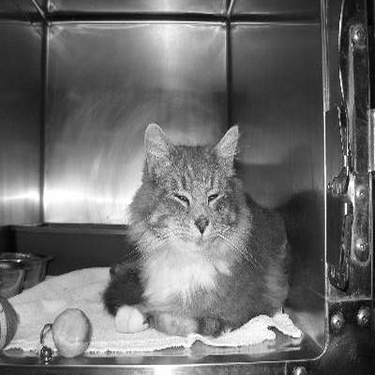cat: (62, 108, 299, 333)
